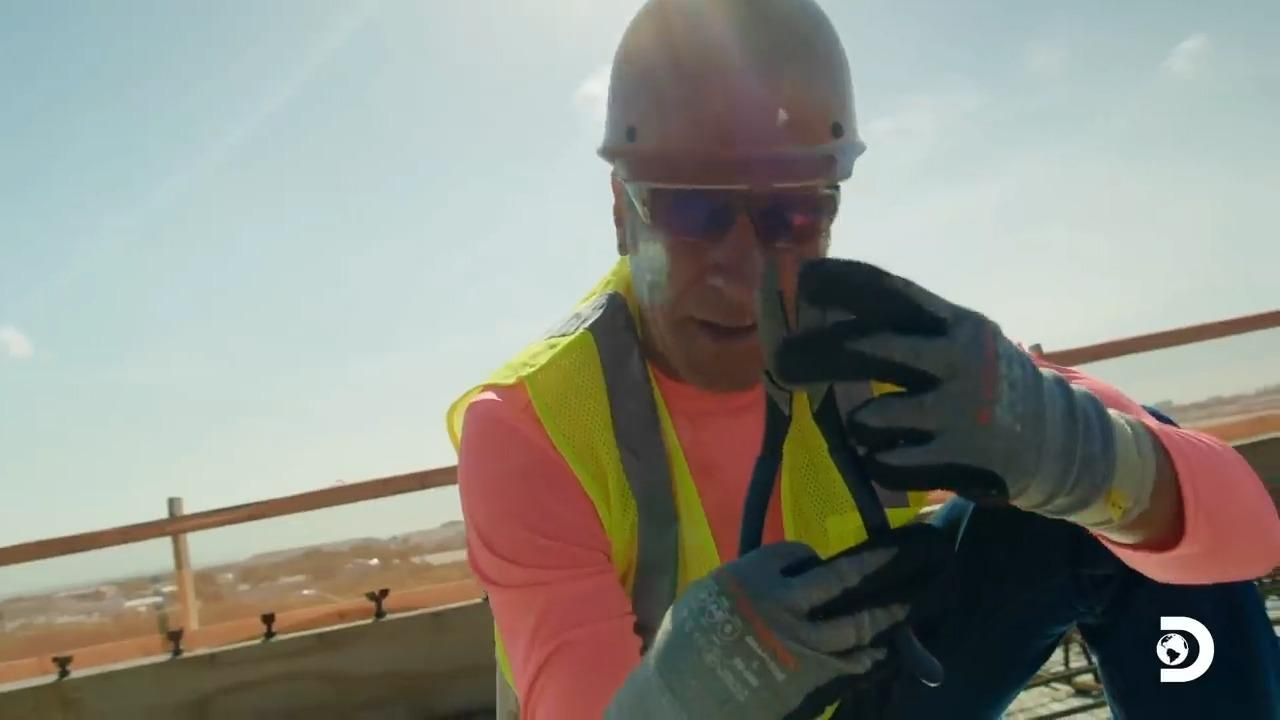Gloves: (789, 270, 1054, 496), (680, 541, 934, 705)
Helmet: (595, 0, 866, 190)
Person: (445, 0, 1279, 718)
Safety Vest: (512, 343, 883, 557)
